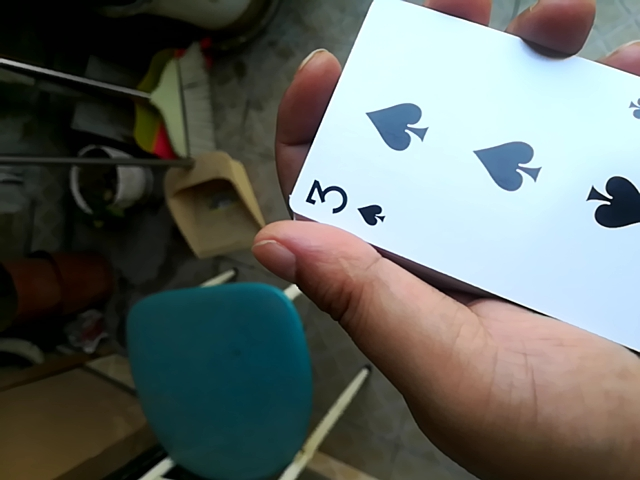ht 3: (283, 1, 639, 382)
